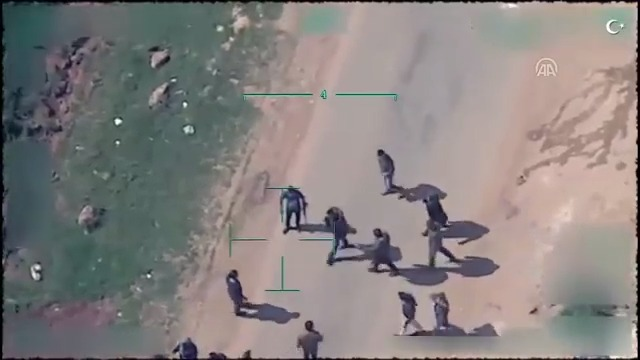insan: (355, 221, 403, 278), (424, 217, 462, 279), (391, 288, 430, 340), (278, 182, 309, 240), (428, 291, 464, 340), (221, 263, 249, 319), (375, 146, 402, 201), (297, 316, 326, 360), (423, 195, 455, 233)
